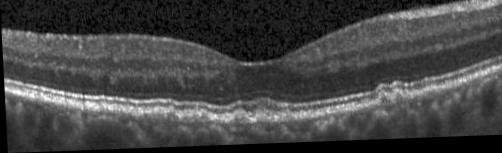retinal_drusen: (137, 110, 177, 123), (180, 114, 211, 126), (228, 116, 252, 127), (379, 95, 391, 109), (255, 117, 270, 125), (393, 95, 401, 106), (427, 91, 438, 99), (282, 117, 293, 123), (211, 120, 219, 125), (220, 121, 224, 127)
